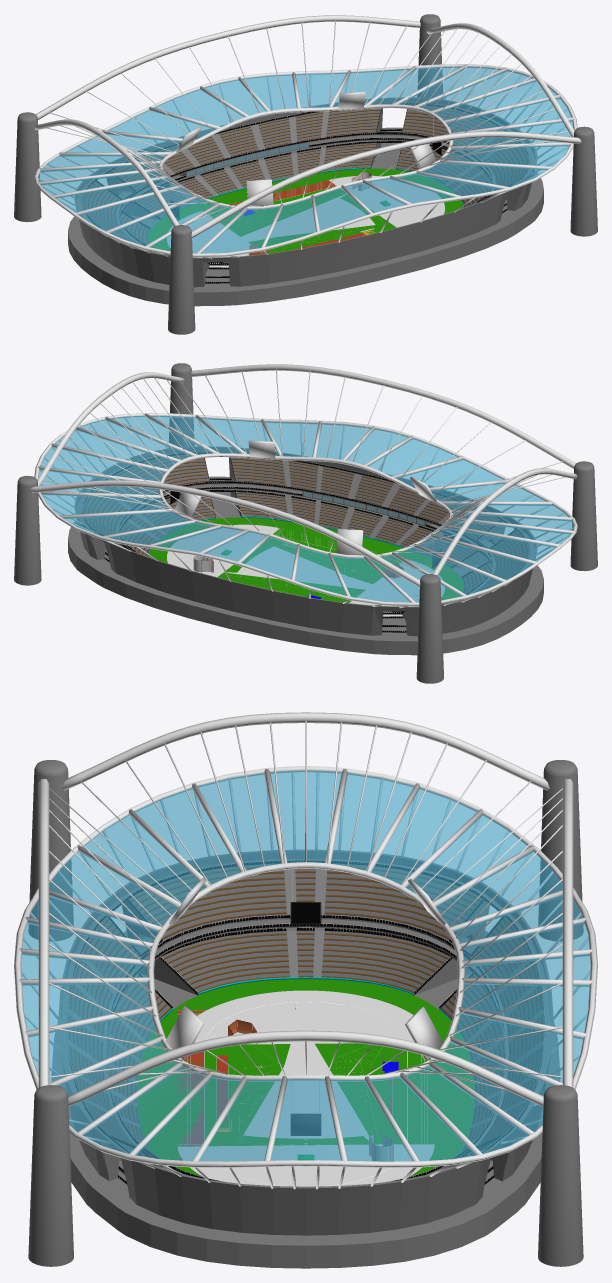
File: Olympic Stadium.fbx
3 views of the same model, one above another, from view 1: azimuth 30°, elevation 25°; view 2: azimuth 150°, elevation 25°; view 3: azimuth 270°, elevation 25° (orthographic). The views are drawn at different scales.
Visible parts, largest first — view 1: Roof, Stands, Audience Seats, Grass, Track Markings, Handrails, Javelin Throw Markings, Stairs, Track, Floodlight 2, Floodlight 1; view 2: Roof, Stands, Audience Seats, Grass, Track Markings, Handrails, Javelin Throw Markings, Stairs, Floodlight 3, Floodlight 4; view 3: Roof, Stands, Audience Seats, Grass, Track Markings, Handrails, Javelin Throw Markings, Stairs, Track, Floodlight 4, Floodlight 1, Monitor 1 (+1 smaller).
Boxes of the visible parts, left/top/right/bottom form: Roof: left=14, top=14, right=597, bottom=334; Stands: left=68, top=97, right=543, bottom=306; Audience Seats: left=82, top=105, right=529, bottom=252; Grass: left=148, top=168, right=463, bottom=253; Track Markings: left=167, top=175, right=444, bottom=267; Handrails: left=82, top=103, right=529, bottom=283; Javelin Throw Markings: left=238, top=194, right=388, bottom=241; Stairs: left=102, top=111, right=513, bottom=243; Track: left=209, top=180, right=365, bottom=249; Floodlight 2: left=246, top=179, right=273, bottom=206; Floodlight 1: left=338, top=91, right=365, bottom=109; Roof: left=14, top=363, right=597, bottom=683; Stands: left=68, top=446, right=543, bottom=655; Audience Seats: left=82, top=454, right=529, bottom=601; Grass: left=148, top=517, right=463, bottom=602; Track Markings: left=167, top=524, right=444, bottom=616; Handrails: left=82, top=452, right=529, bottom=632; Javelin Throw Markings: left=224, top=546, right=401, bottom=597; Stairs: left=98, top=460, right=509, bottom=592; Floodlight 3: left=336, top=529, right=363, bottom=555; Floodlight 4: left=248, top=440, right=275, bottom=458; Roof: left=14, top=712, right=597, bottom=1266; Stands: left=52, top=850, right=559, bottom=1268; Audience Seats: left=67, top=864, right=544, bottom=1168; Grass: left=138, top=979, right=473, bottom=1176; Track Markings: left=177, top=990, right=434, bottom=1186; Handrails: left=67, top=860, right=544, bottom=1184; Javelin Throw Markings: left=243, top=1003, right=368, bottom=1151; Stairs: left=68, top=869, right=543, bottom=1146; Track: left=177, top=1010, right=417, bottom=1160; Floodlight 4: left=166, top=1006, right=204, bottom=1059; Floodlight 1: left=405, top=1006, right=443, bottom=1060; Monitor 1: left=290, top=869, right=321, bottom=924.
Size of the model in its own units: 33793 by 8872 by 20991.
